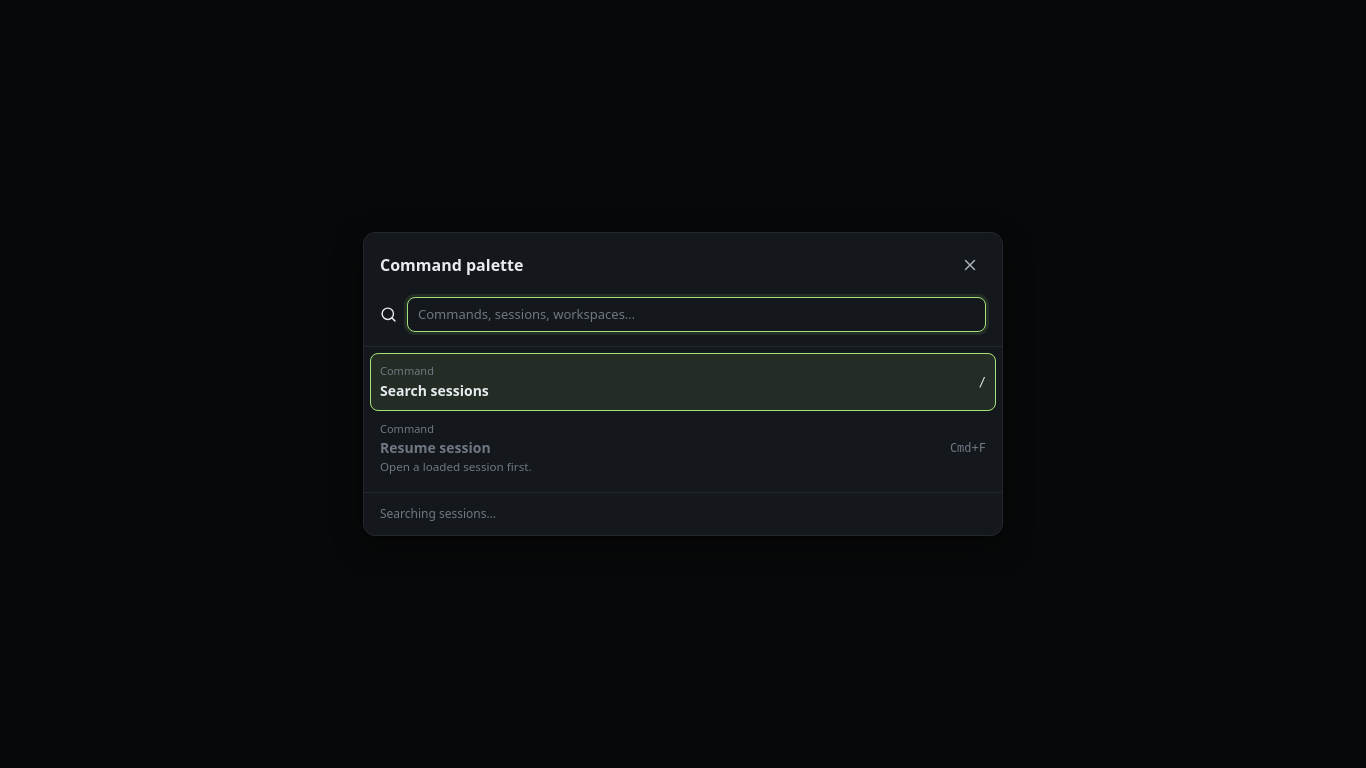
session discovery is debounced, bounded and ignores late results
This screenshot has width=1366, height=768.
Later steps or results of the test are not shown.
Type "Needle" into the dropdown.
click(696, 314); type("Needle")  # box [407, 297, 986, 332]
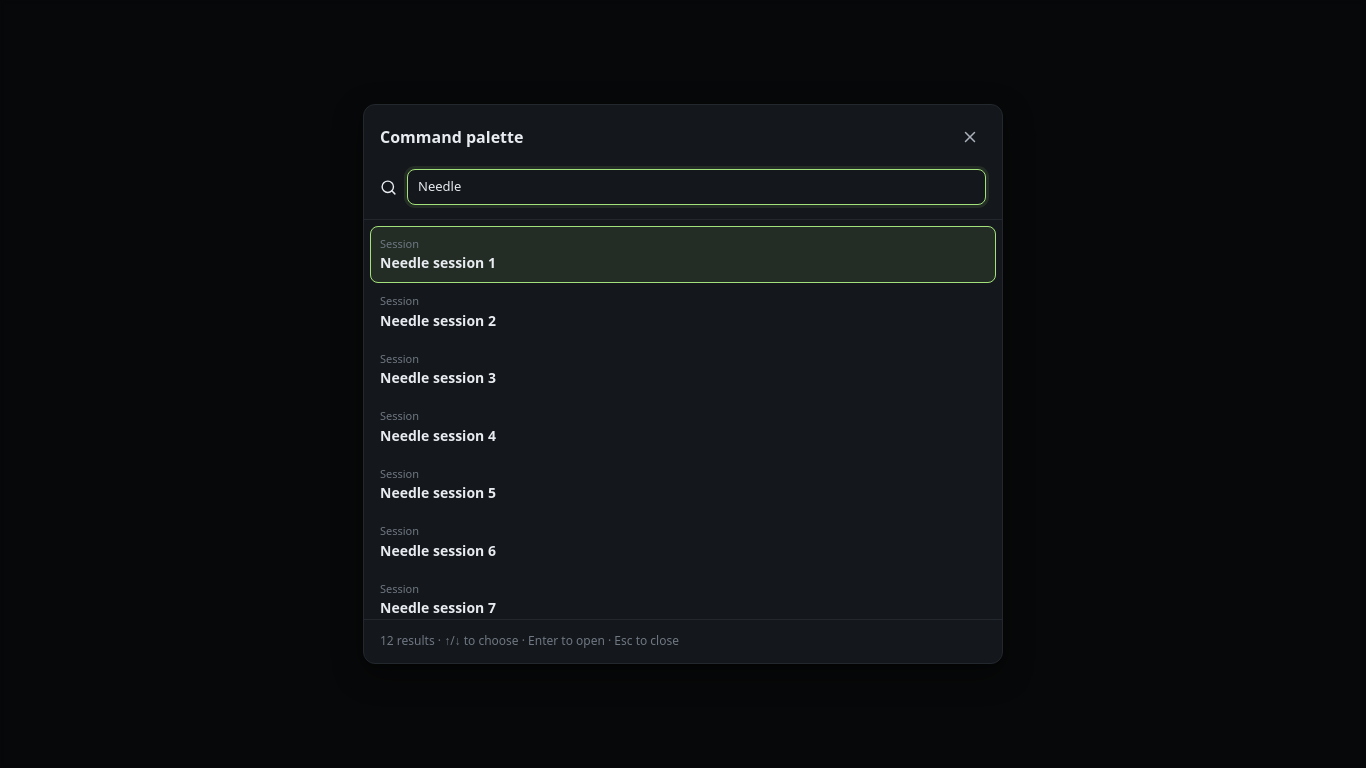
expect the option "Session Needle session 1" is shown: met, box [370, 226, 996, 283]
